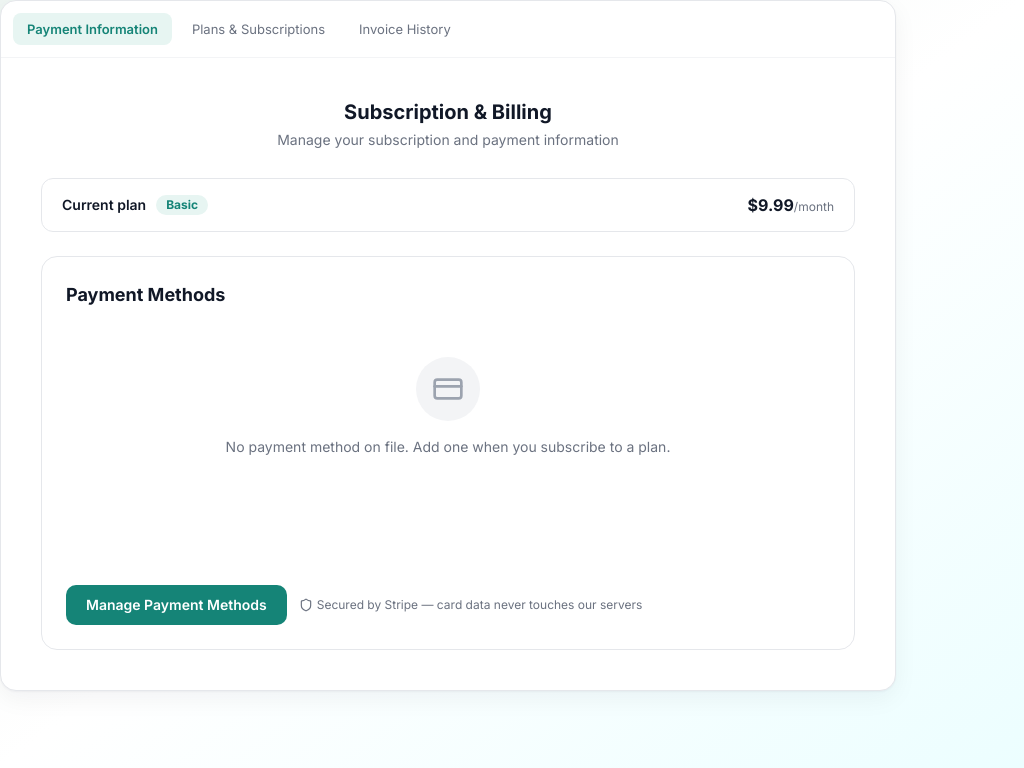
Scenario: Billing Page Integration › plan change confirmation › abandons the change when the user backs out
Click the text "Plans & Subscriptions": click(258, 29) [192, 21, 325, 37]
(page scrolled)
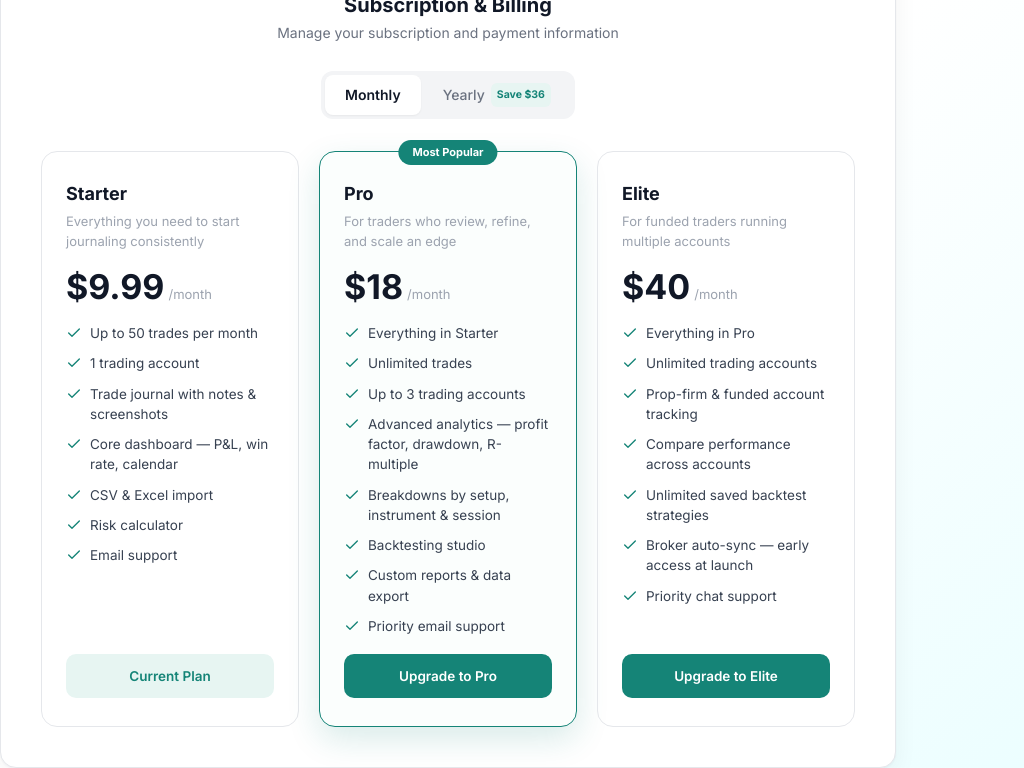
Click the button "Upgrade to Pro": click(448, 676) [344, 654, 552, 698]
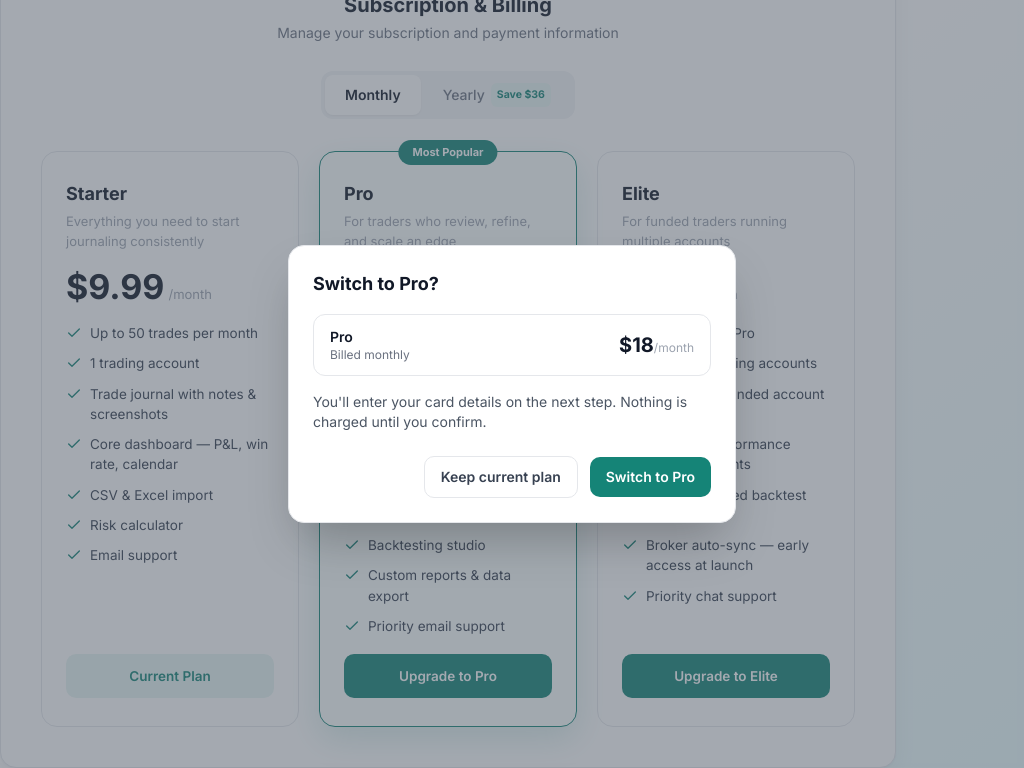
Click the button with test id "billing-plan-confirm-cancel-btn": click(501, 477) [424, 456, 578, 498]
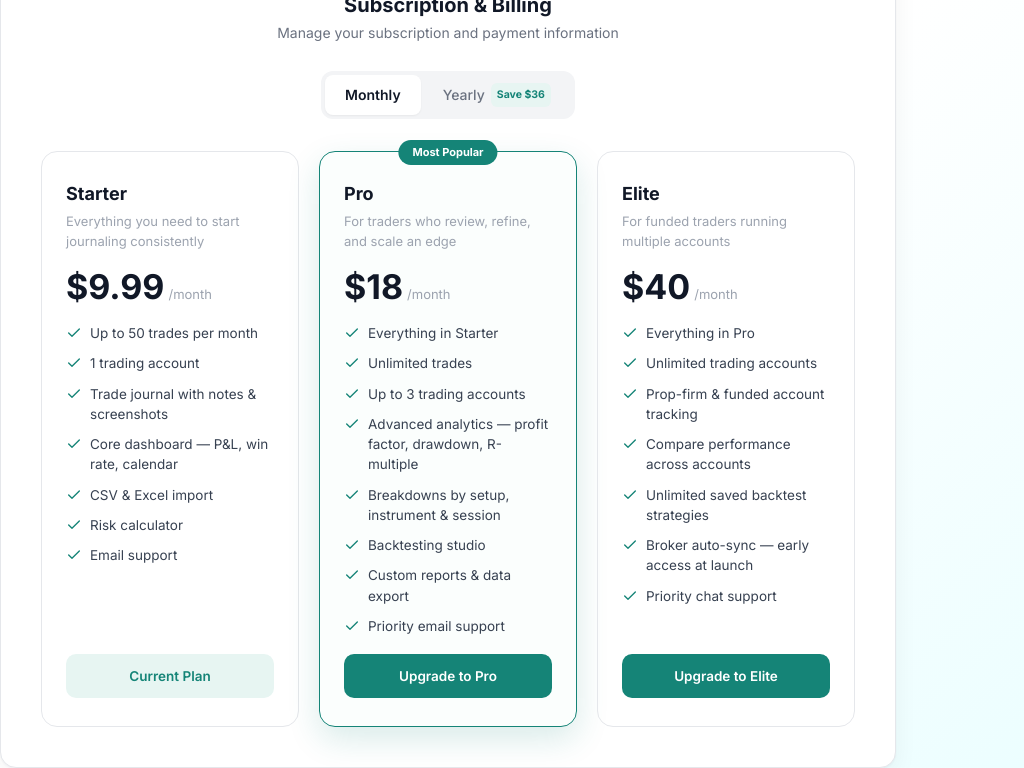
Expected: the dialog with test id "billing-plan-confirm-modal" is gone
